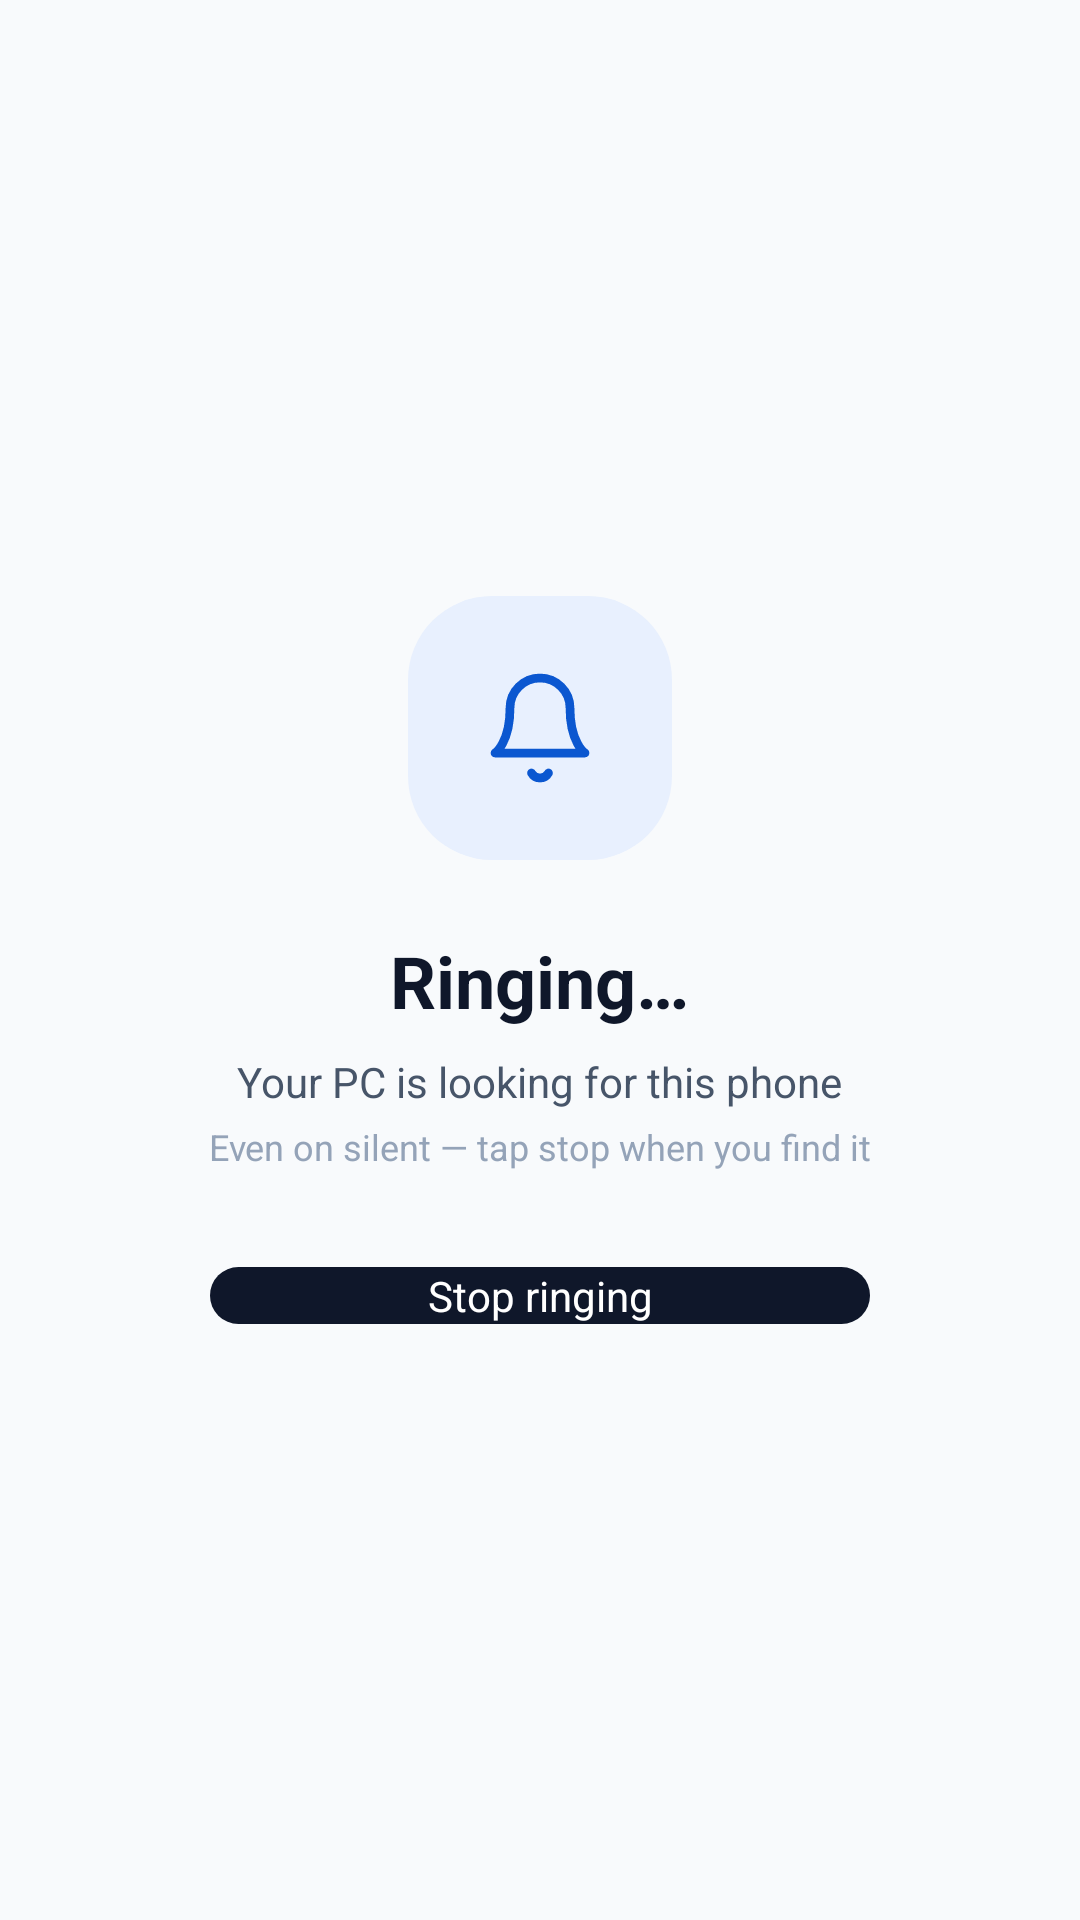

Where to tap for icons on this 1080px x 1920px app screen, as (x=x, y=y):
bell clay: (x=540, y=728)
